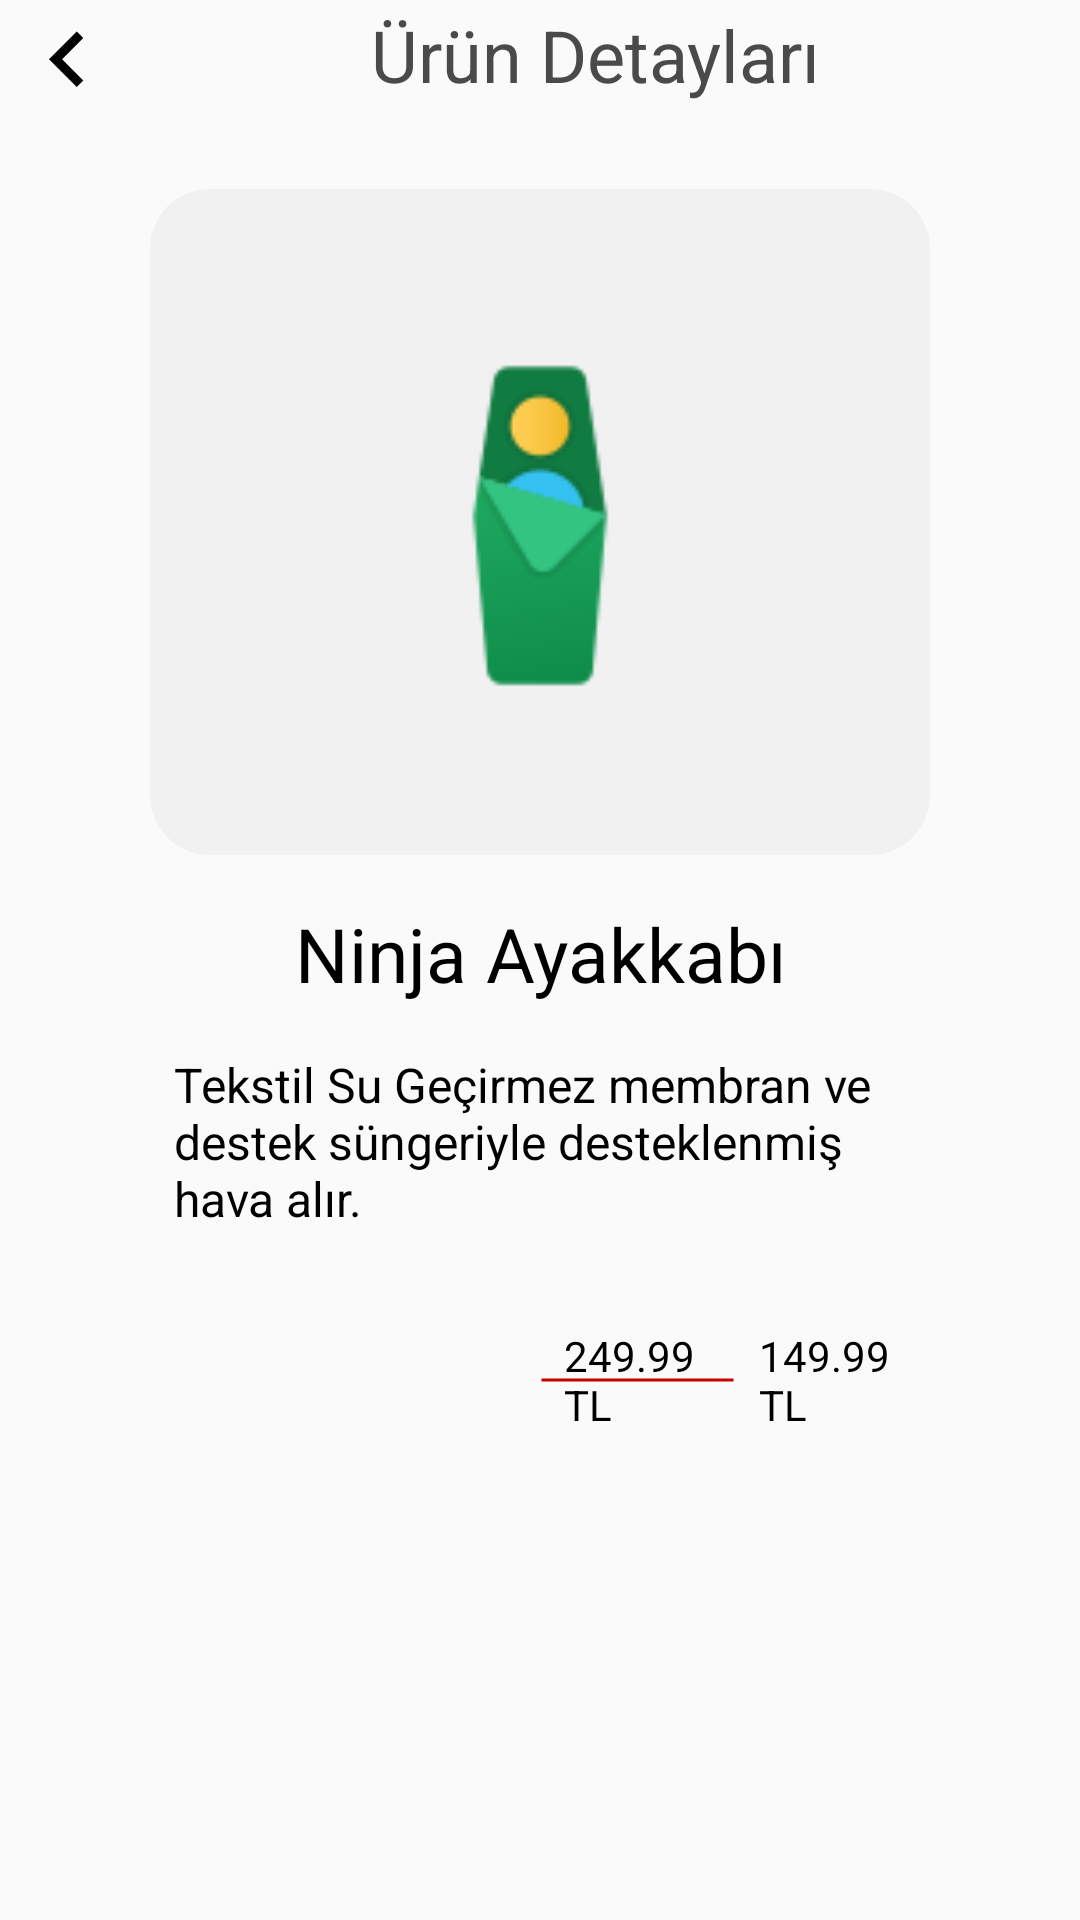

Icons on this 1080×1920 Android screen, each with the point to tap as (x=x, y=y):
Geri git: (x=66, y=59)
sleepbag: (x=540, y=525)
